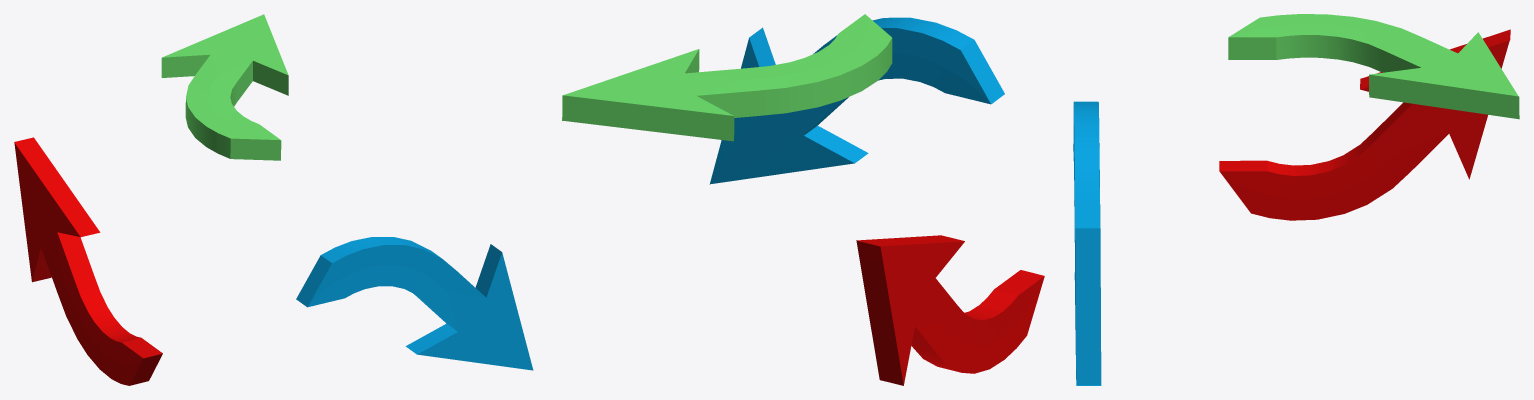
The model's file is Rotation.fbx.
3 views of the same model, side by side, from view 1: azimuth 30°, elevation 25°; view 2: azimuth 150°, elevation 25°; view 3: azimuth 270°, elevation 25° (orthographic). The views are drawn at different scales.
Parts seen in each view (by area): view 1: polySurface16, polySurface17, polySurface18; view 2: polySurface18, polySurface17, polySurface16; view 3: polySurface18, polySurface17, polySurface16.
Part boxes in pixels (left/top/right/bottom): polySurface16: left=296, top=237, right=533, bottom=370; polySurface17: left=14, top=137, right=162, bottom=385; polySurface18: left=161, top=14, right=288, bottom=160; polySurface18: left=562, top=14, right=892, bottom=141; polySurface17: left=856, top=235, right=1044, bottom=385; polySurface16: left=709, top=17, right=1004, bottom=184; polySurface18: left=1228, top=14, right=1519, bottom=119; polySurface17: left=1219, top=29, right=1510, bottom=220; polySurface16: left=1073, top=101, right=1101, bottom=385.
Size of the model in its own units: 5.13 by 3.42 by 5.49.
